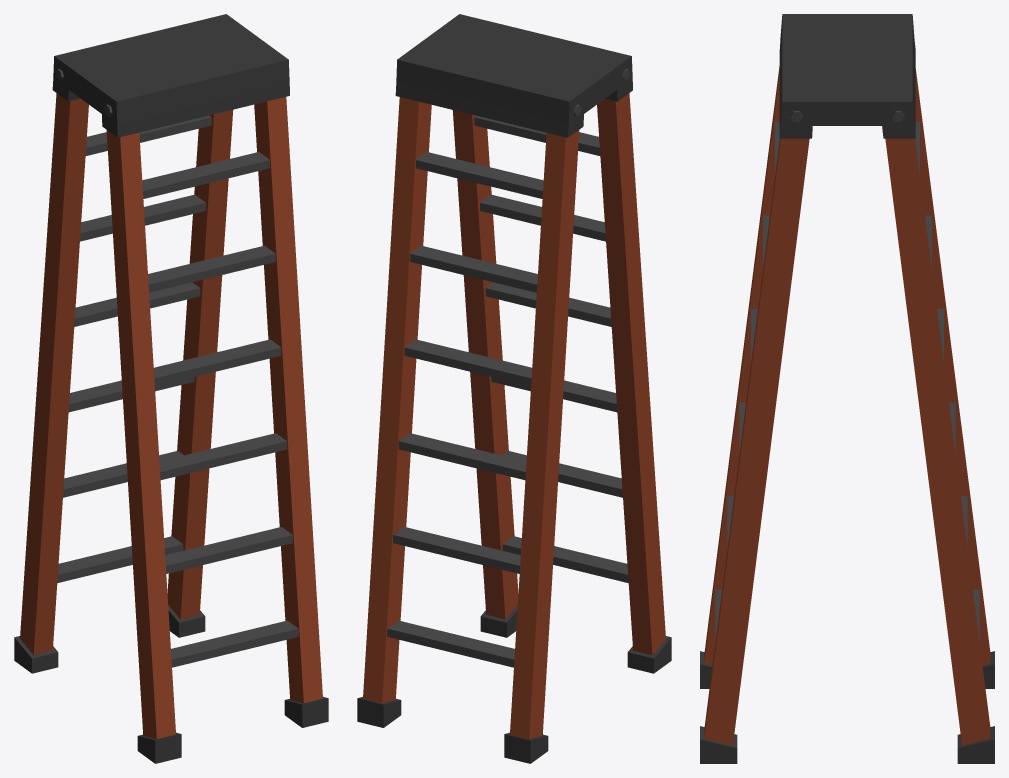
File: ConstructionStairs_01.fbx
3 renders of one model, left to right at view 1: azimuth 30°, elevation 25°; view 2: azimuth 150°, elevation 25°; view 3: azimuth 270°, elevation 25°, orthographic. The views are drawn at different scales.
Parts seen in each view (by area): view 1: ConstructionStairs_01; view 2: ConstructionStairs_01; view 3: ConstructionStairs_01.
Boxes of the visible parts, <box> form: ConstructionStairs_01: <box>14,14,328,763</box>; ConstructionStairs_01: <box>357,14,671,763</box>; ConstructionStairs_01: <box>700,14,994,763</box>.
Size of the model in its own units: 59.14 by 203 by 81.83.
